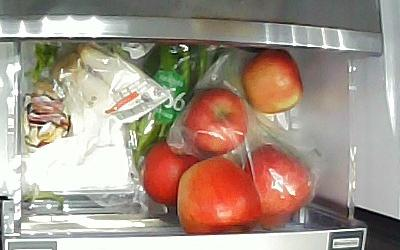apple: (174, 157, 263, 235), (241, 49, 305, 114), (139, 140, 201, 205)
apple_vinyl: (243, 145, 315, 231), (182, 88, 248, 155)
